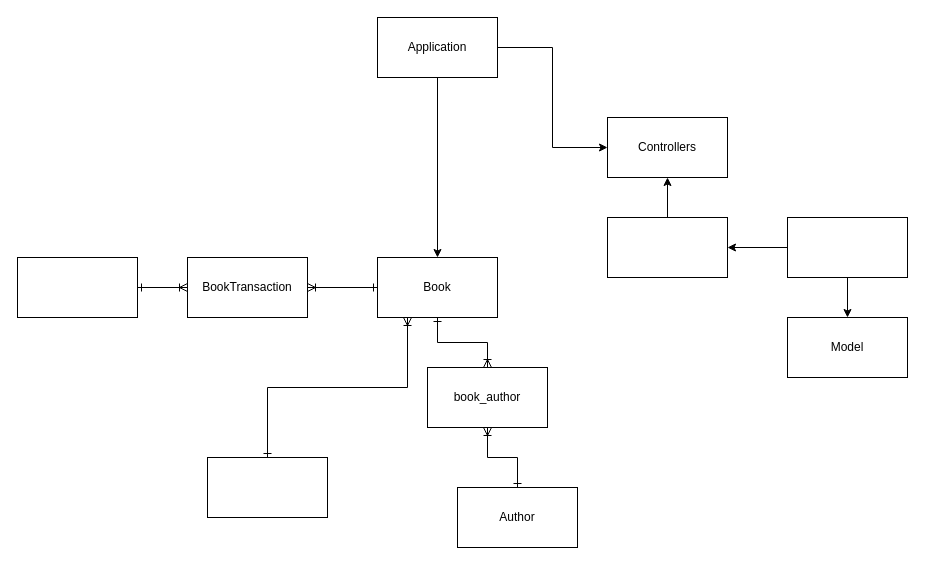
Image size: 925x565. Some labels were removed from this diagram. Each missing label, with the centre of its shape:
"Genre" goes at (x=267, y=487).
"Member" goes at (x=77, y=287).
"Repositories" goes at (x=847, y=247).
"Services" goes at (x=667, y=247).
